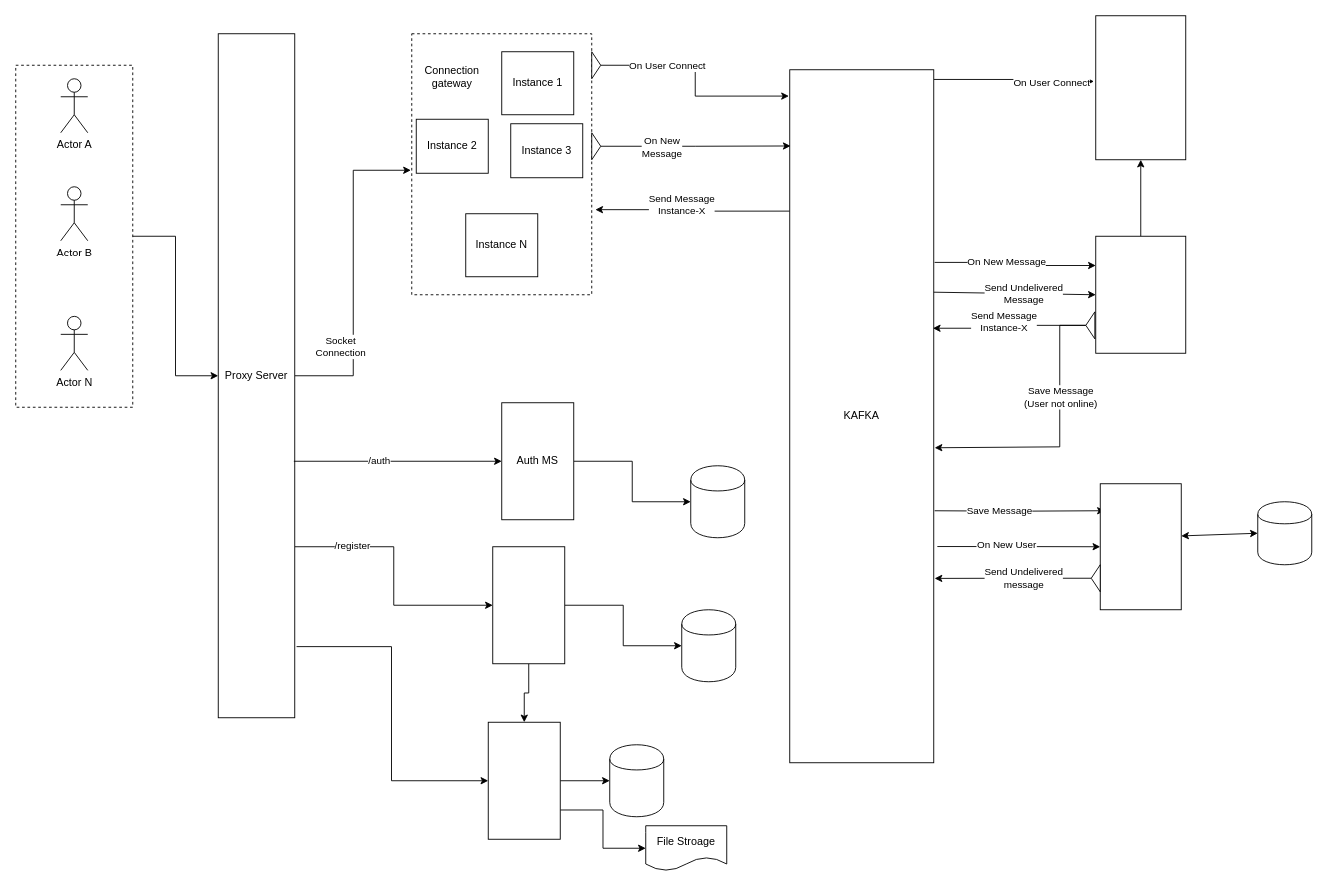
Image size: 1328x887. Some labels were removed from this diagram. Each missing label, with the centre of its shape:
Image MS: (523,780)
Message Router: (1140,294)
Persistence Message MS: (1140,546)
Profile MS: (528,605)
Session-ms: (1140,87)
